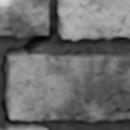brick: (7, 54, 129, 120), (58, 0, 129, 39), (0, 0, 48, 37), (0, 125, 45, 129)
crack: (0, 2, 53, 127), (0, 26, 11, 30)
